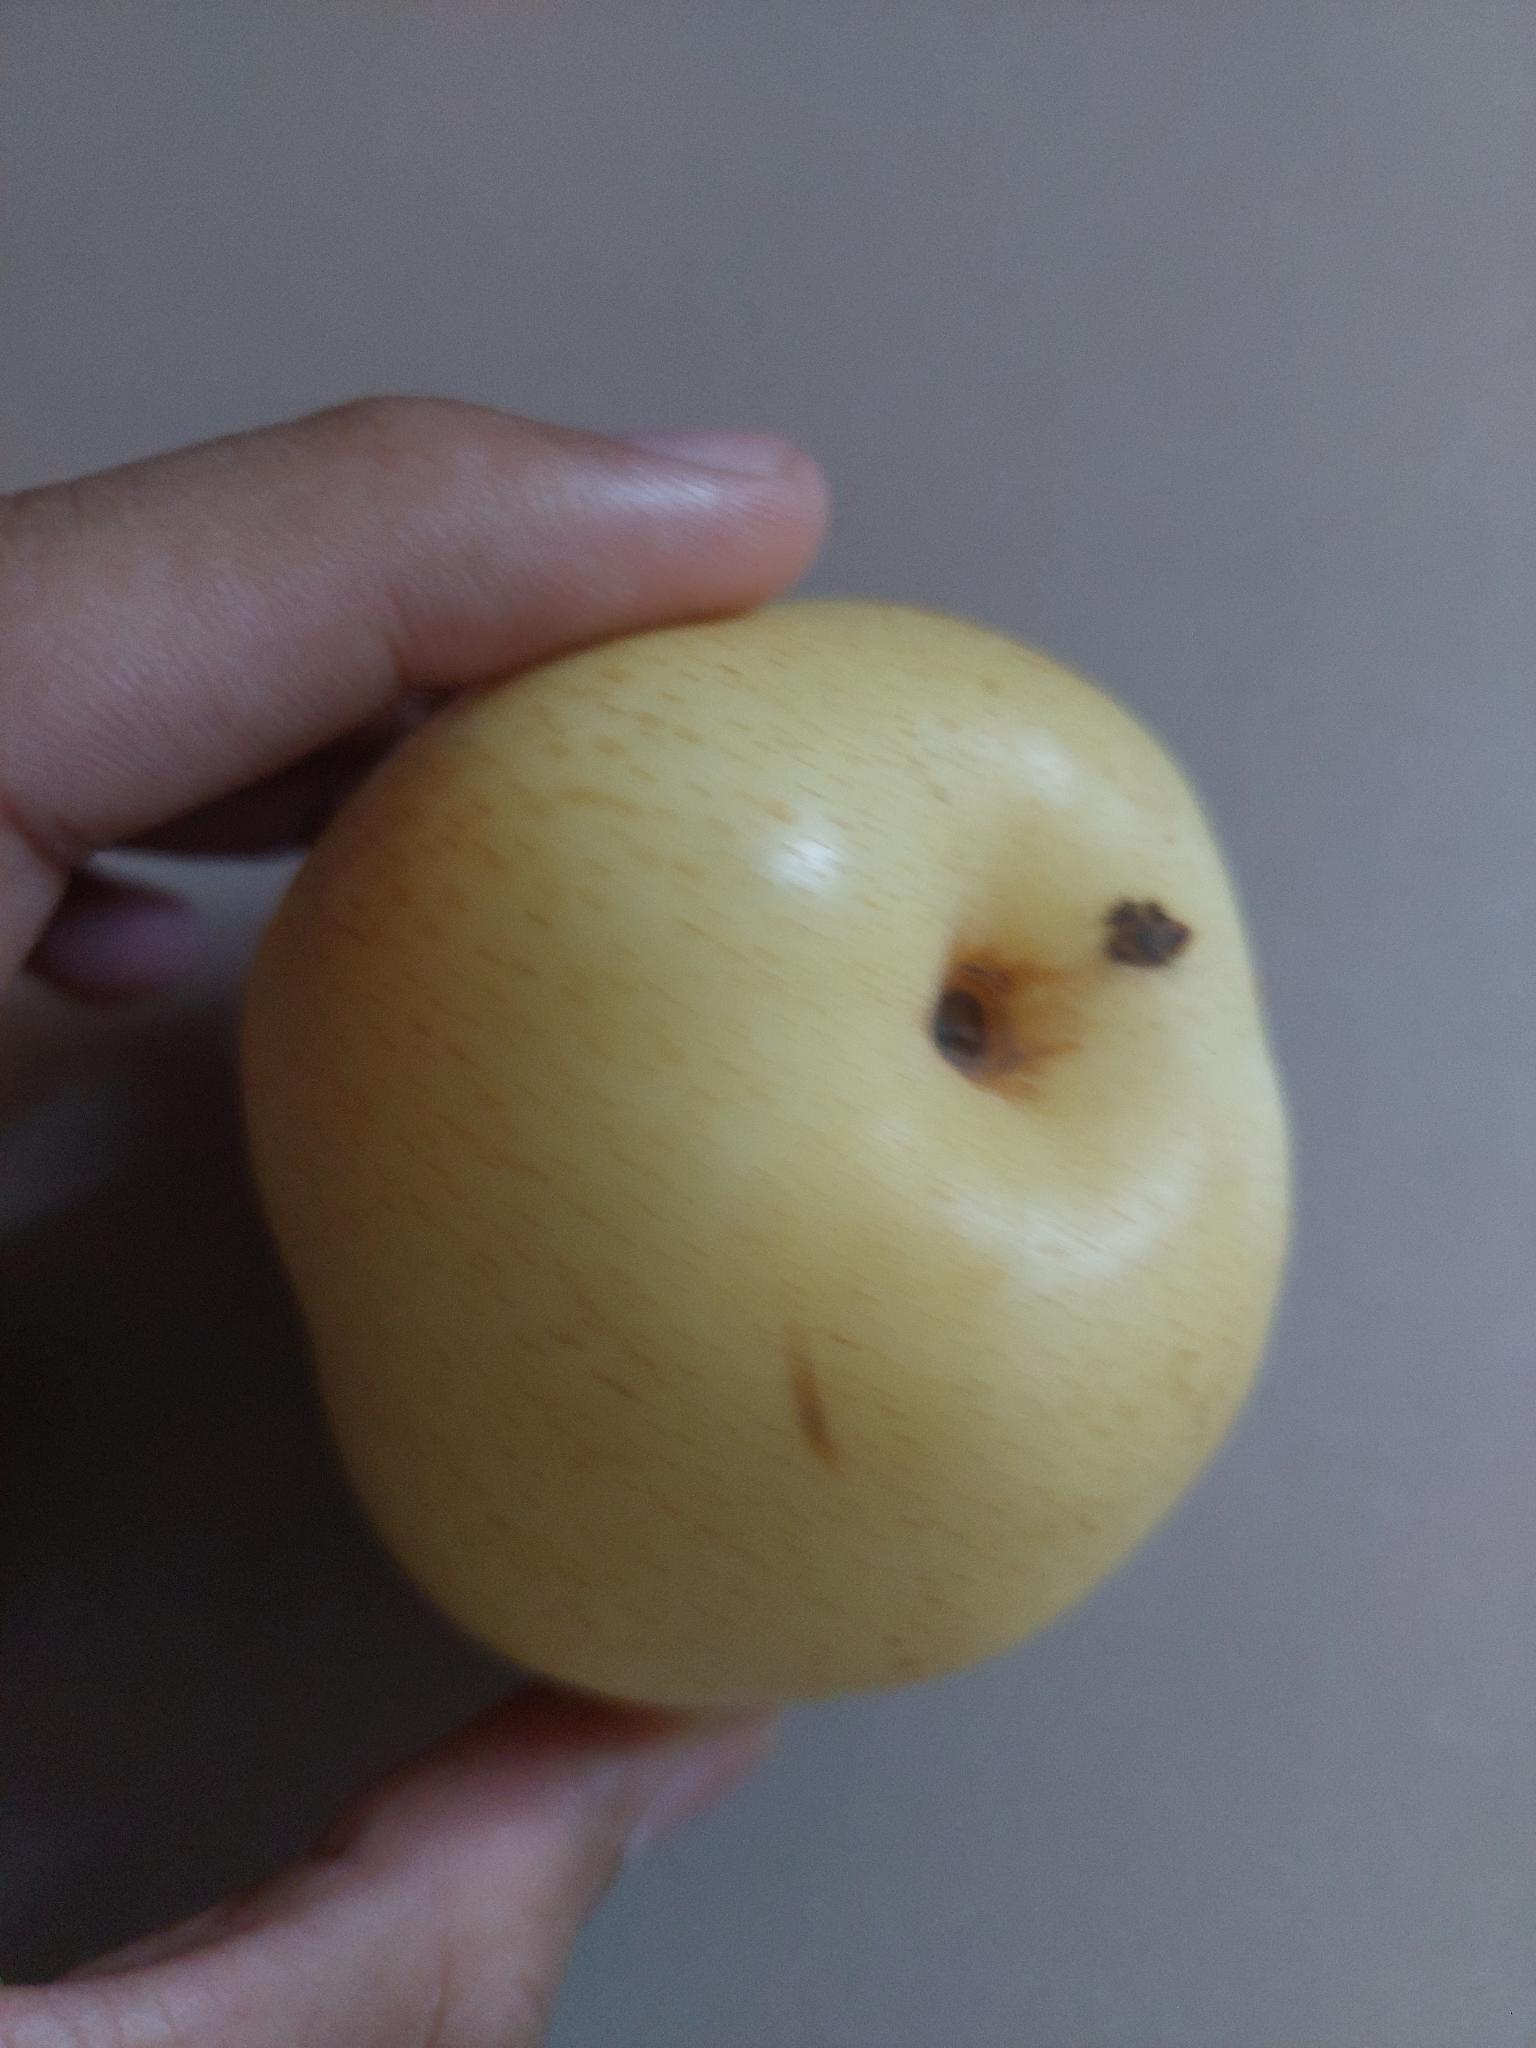Good Pear: (222, 608, 1304, 1708)
